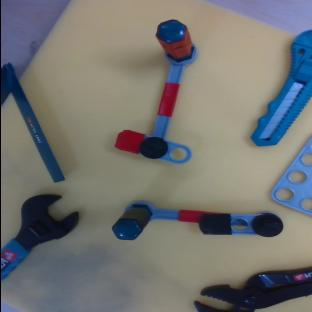non_pass: (111, 199, 282, 239)
pass: (113, 14, 207, 165)
